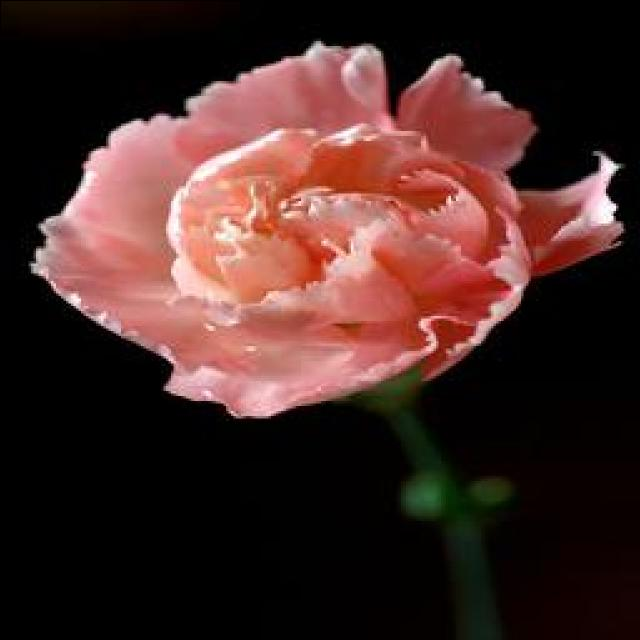carnation: (18, 19, 620, 442)
